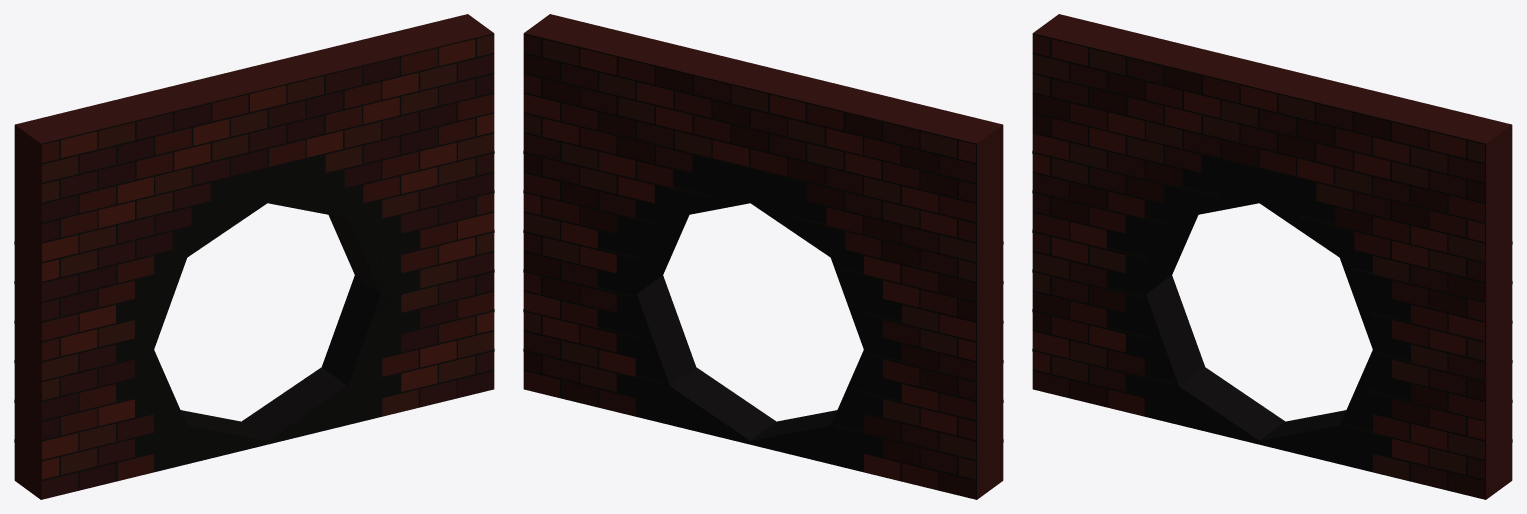
The model's file is SM_Hide_TubeWall_6x4.glb.
3 renders of one model, left to right at view 1: azimuth 30°, elevation 25°; view 2: azimuth 150°, elevation 25°; view 3: azimuth 330°, elevation 25°, orthographic.
Visible parts, largest first — view 1: SM_Hide_TubeWall_6x4-col; view 2: SM_Hide_TubeWall_6x4-col; view 3: SM_Hide_TubeWall_6x4-col.
Part boxes in pixels (x1,y1,x2,y2): SM_Hide_TubeWall_6x4-col: (14,14,494,499); SM_Hide_TubeWall_6x4-col: (523,14,1003,499); SM_Hide_TubeWall_6x4-col: (1032,14,1512,499).
Size of the model in its own units: 5.99 by 4.5 by 0.625.
